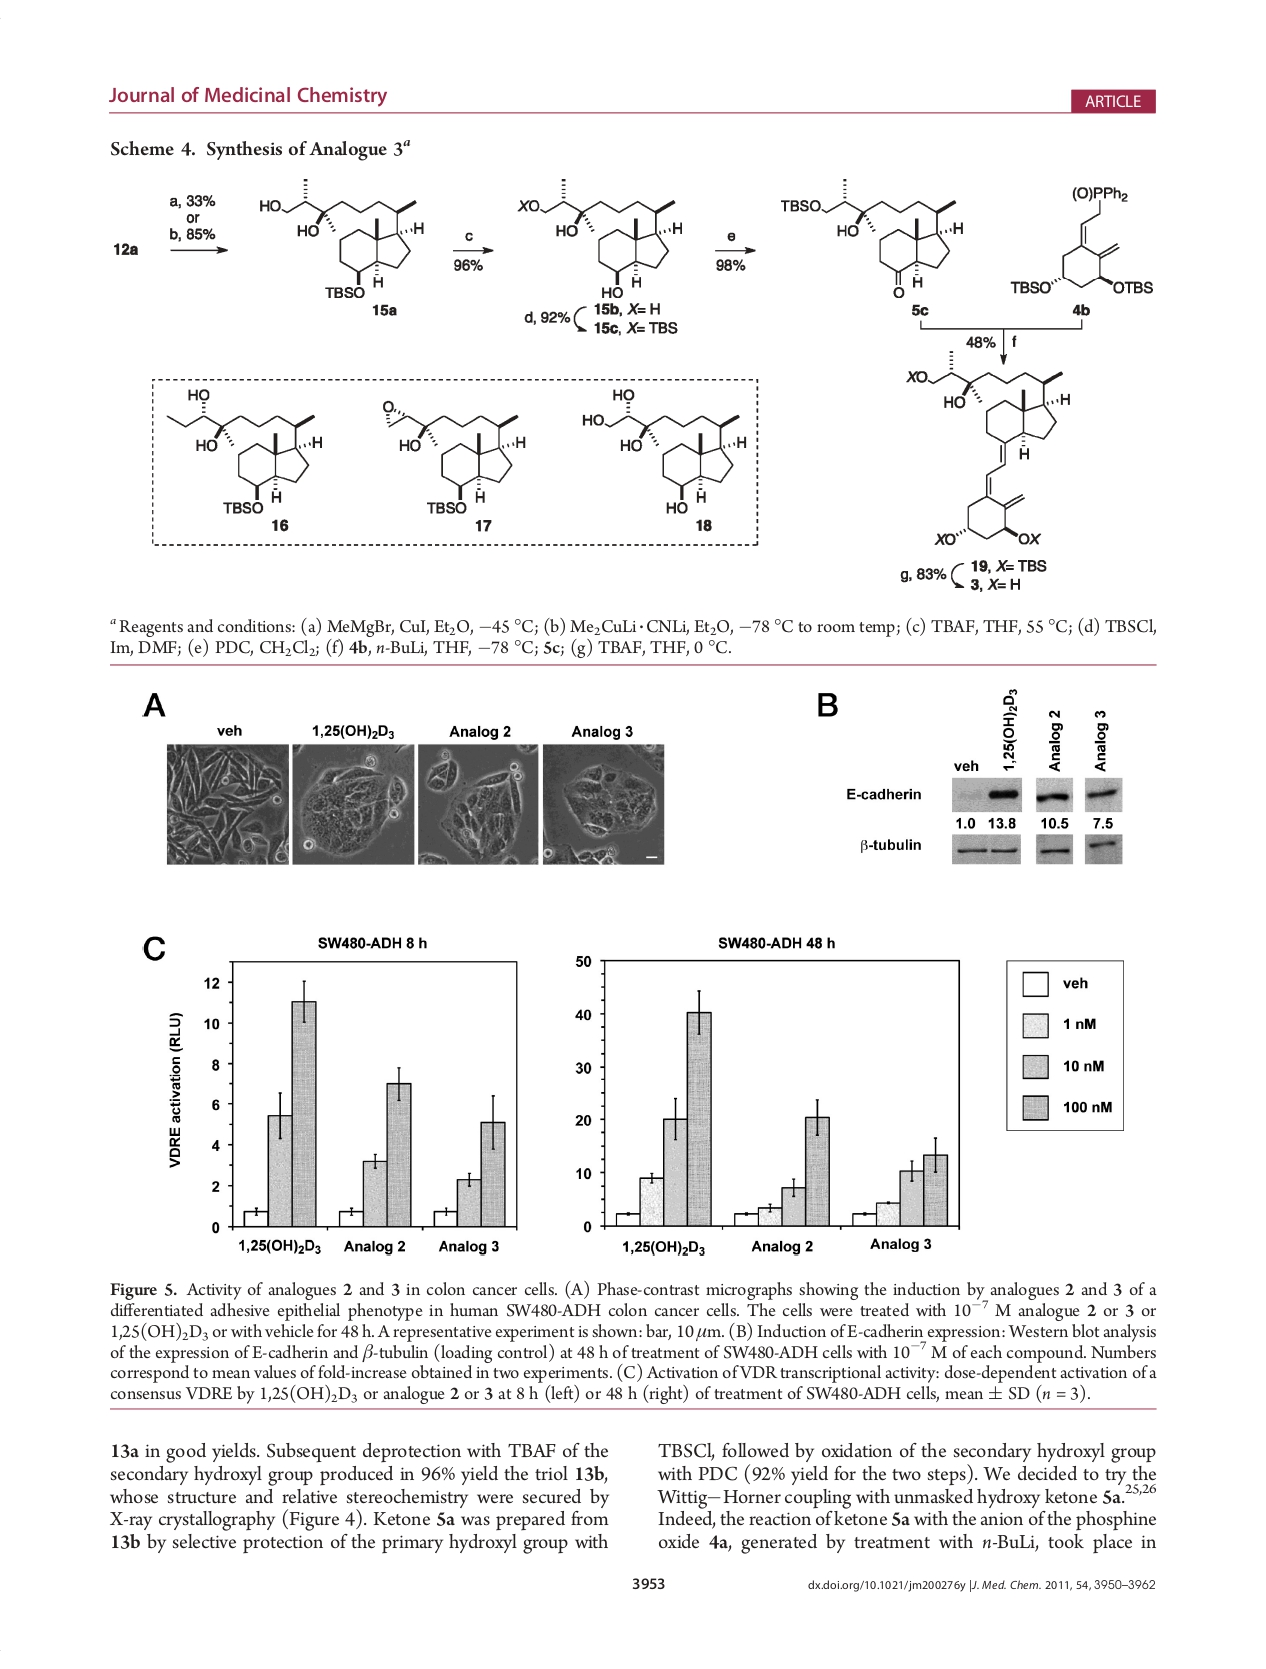exist_molecular: (904, 348, 1075, 551), (779, 174, 967, 302), (251, 170, 430, 303), (578, 384, 747, 516), (166, 384, 326, 517), (517, 176, 686, 299), (379, 396, 529, 519), (1009, 181, 1160, 302)
